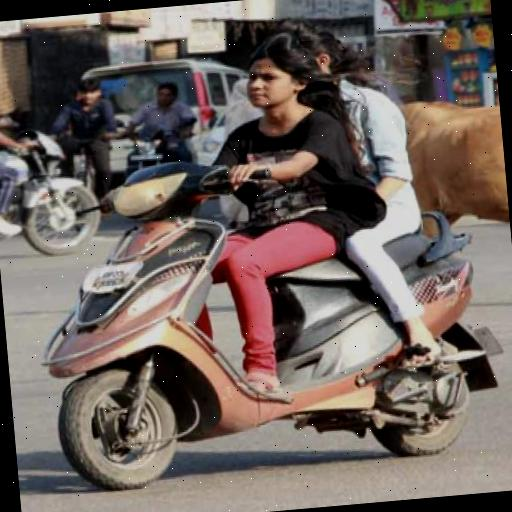no helmet: (42, 0, 392, 462)
